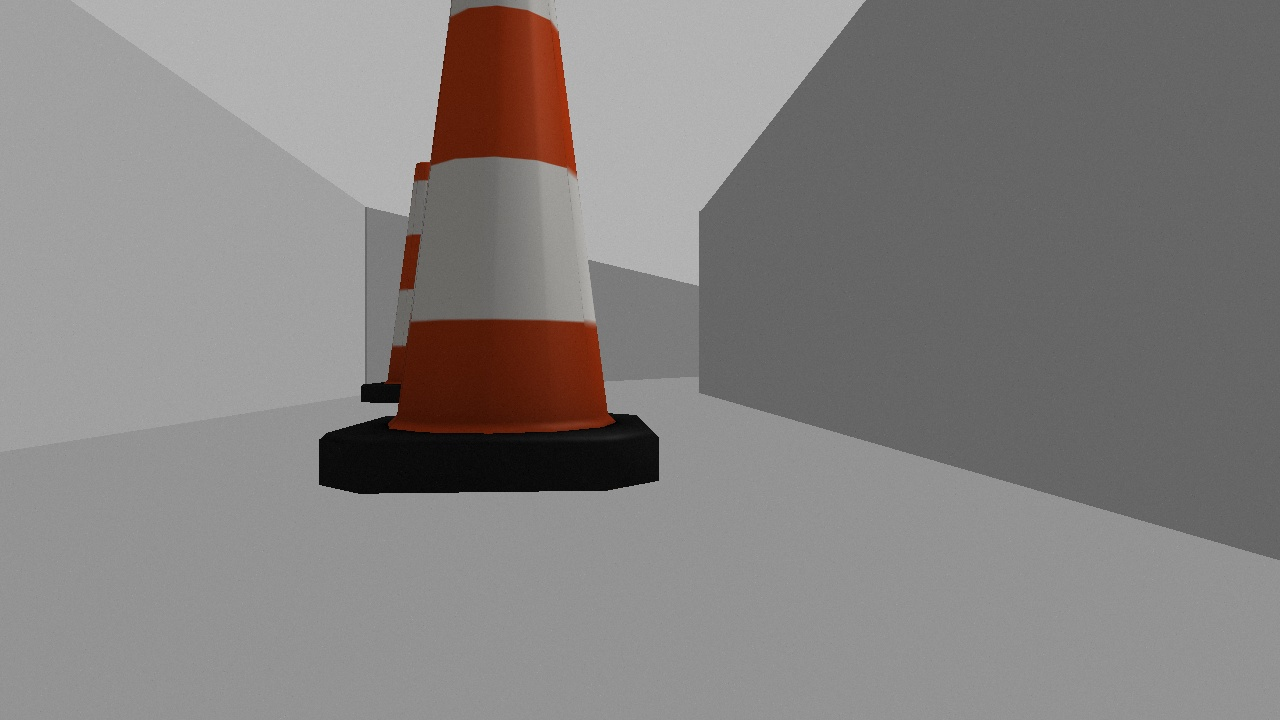barricade: (317, 1, 660, 494), (359, 163, 467, 404)
